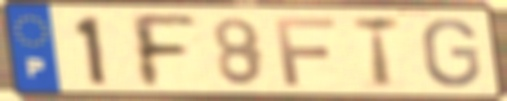1: (71, 13, 109, 88)
8: (210, 15, 265, 88)
F: (124, 11, 202, 91), (271, 16, 339, 89)
G: (420, 16, 484, 90)
T: (350, 14, 404, 91)
